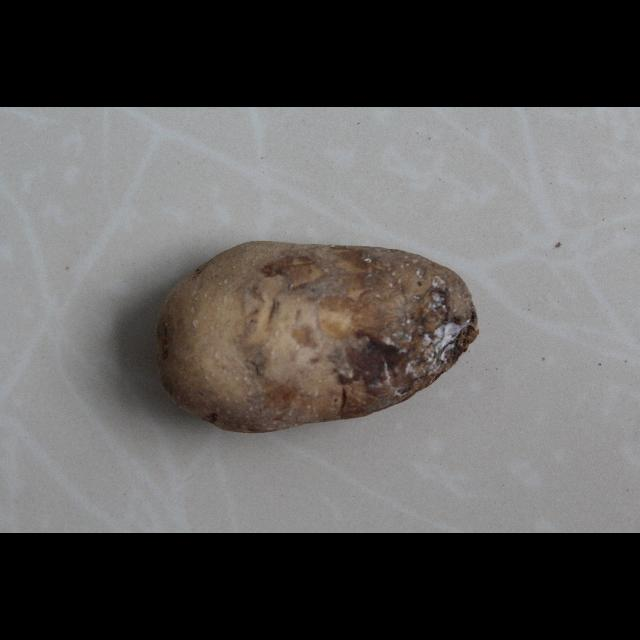Diseased-fungal potato: (154, 237, 482, 439)
